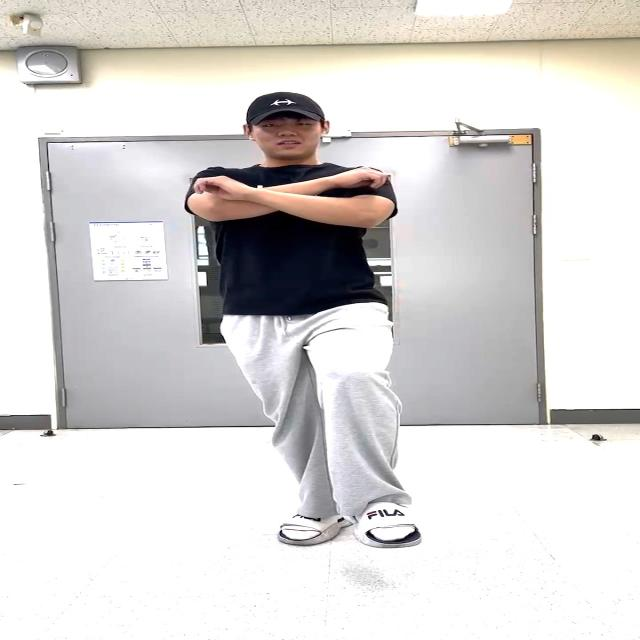leg: (298, 287, 488, 560)
